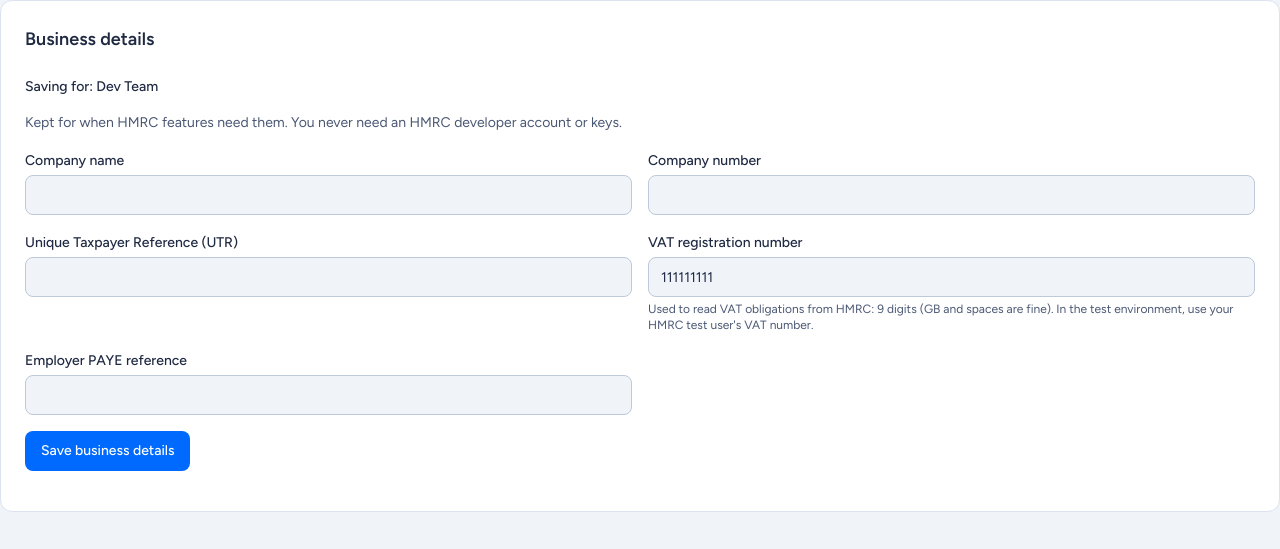
Test: Settings → HMRC business details belong to a company › save updates the company's own row
This screenshot has width=1280, height=549.
Replace the text in the field labelled "VAT registration number" with "GB 333 3333 33" at (952, 277), box left=648, top=257, right=1255, bottom=297
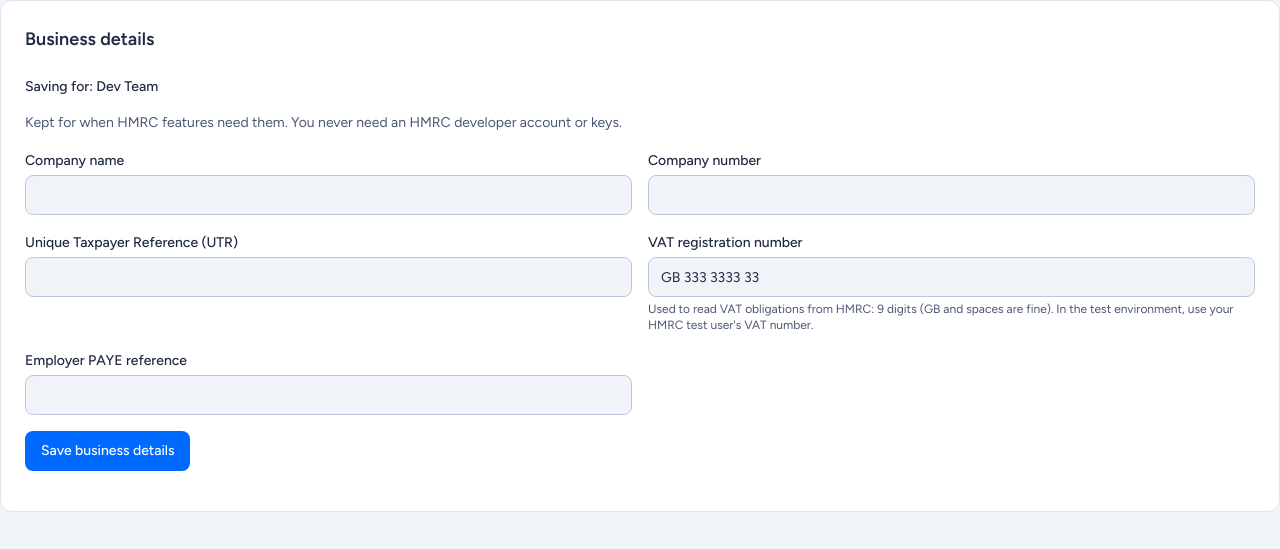
Click the button "Save business details" at (108, 451), box left=25, top=431, right=190, bottom=471
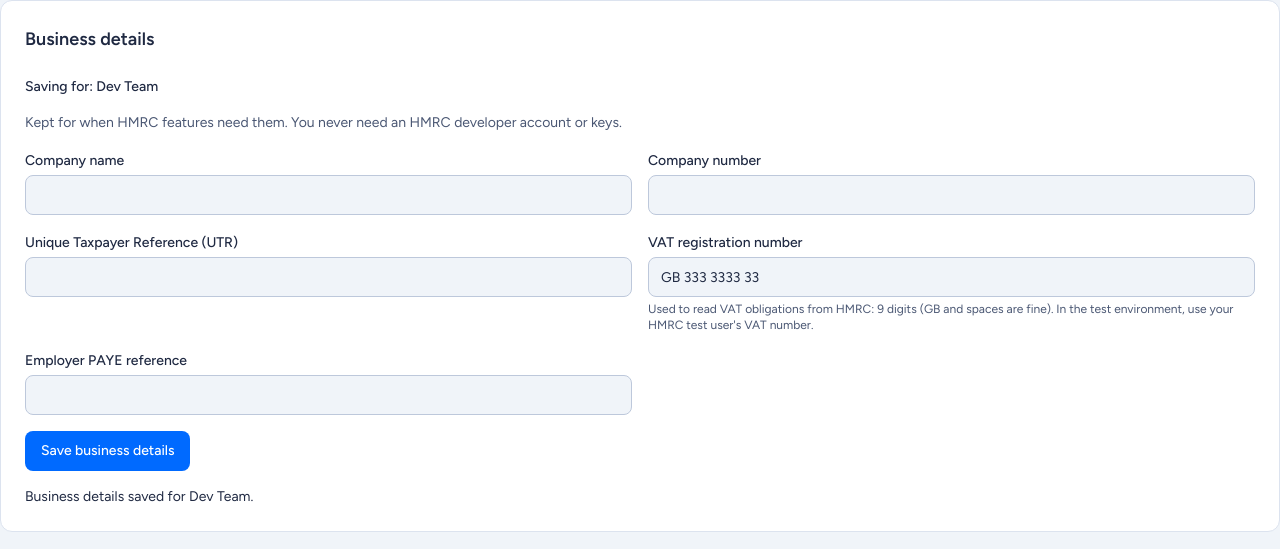
Now the text with test id "hmrc-details-announce" reads "Business details saved for Dev Team.", box left=25, top=488, right=253, bottom=505
